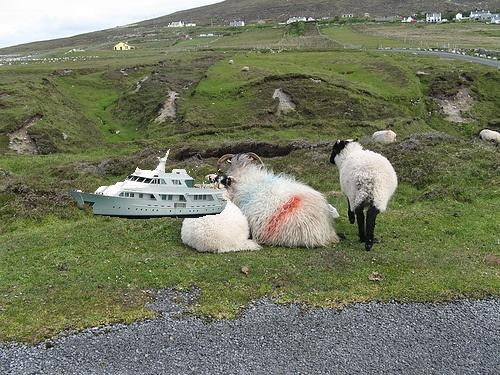tampered: (69, 150, 227, 219)
